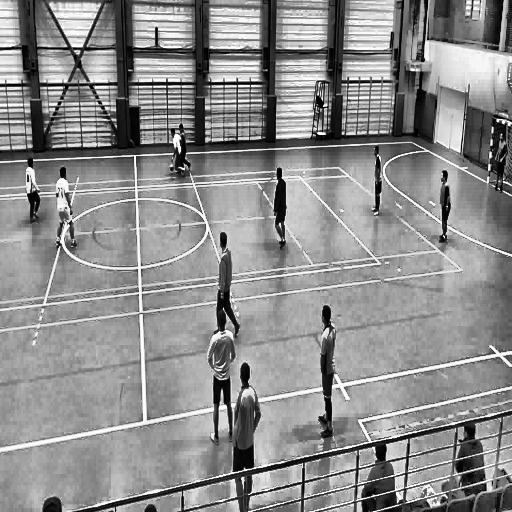ball: (169, 162, 176, 176)
